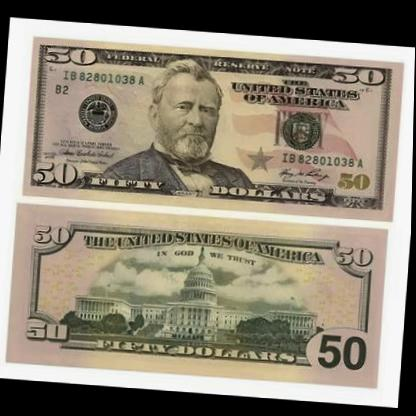fifty-back: (6, 203, 390, 388)
fifty-front: (19, 31, 406, 220)
